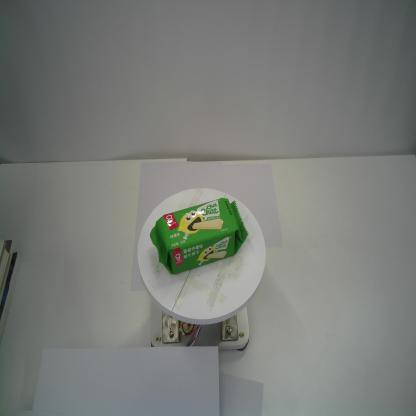Dessert: (150, 197, 249, 275)
